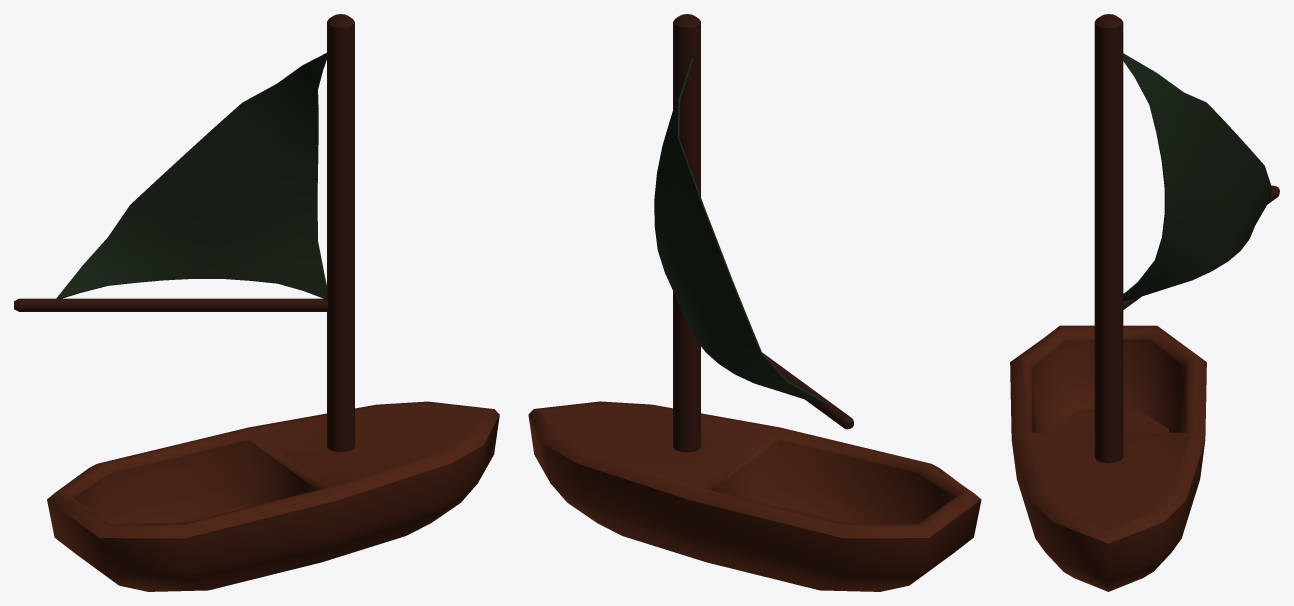
Rendered from Bateau.fbx.
3 renders of one model, left to right at view 1: azimuth 30°, elevation 25°; view 2: azimuth 150°, elevation 25°; view 3: azimuth 270°, elevation 25°, orthographic. The views are drawn at different scales.
Visible parts, largest first — view 1: Bateau; view 2: Bateau; view 3: Bateau.
Part boxes in pixels (x1,y1,x2,y2): Bateau: [14, 14, 499, 591]; Bateau: [528, 14, 981, 591]; Bateau: [1010, 14, 1279, 591].
Size of the model in its own units: 113 by 129 by 60.4.
